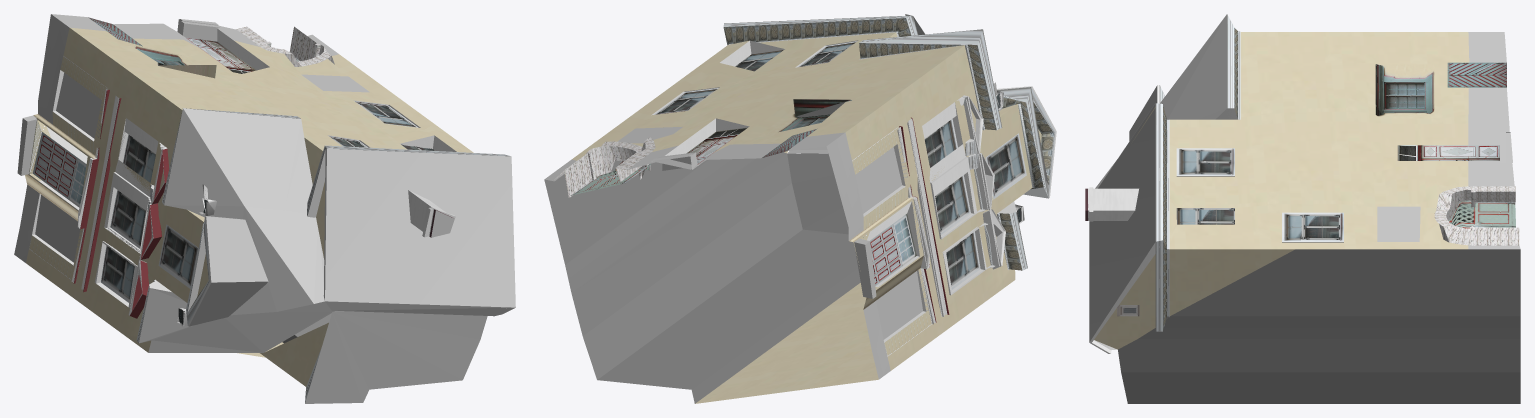
The model's file is Kullassepa_3-origo.obj.
3 renders of one model, left to right at view 1: azimuth 30°, elevation 25°; view 2: azimuth 150°, elevation 25°; view 3: azimuth 270°, elevation 25°, orthographic. The views are drawn at different scales.
Parts seen in each view (by area): view 1: Kullassepa_3; view 2: Kullassepa_3; view 3: Kullassepa_3.
Part boxes in pixels (box(x1,y1,x2,y2)): Kullassepa_3: box(14, 14, 515, 403); Kullassepa_3: box(544, 14, 1056, 403); Kullassepa_3: box(1085, 14, 1520, 403).
Bounding box in the file's own units: 13.31 × 11 × 15.41.
